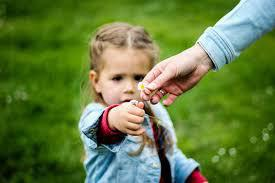child: (73, 22, 209, 183)
